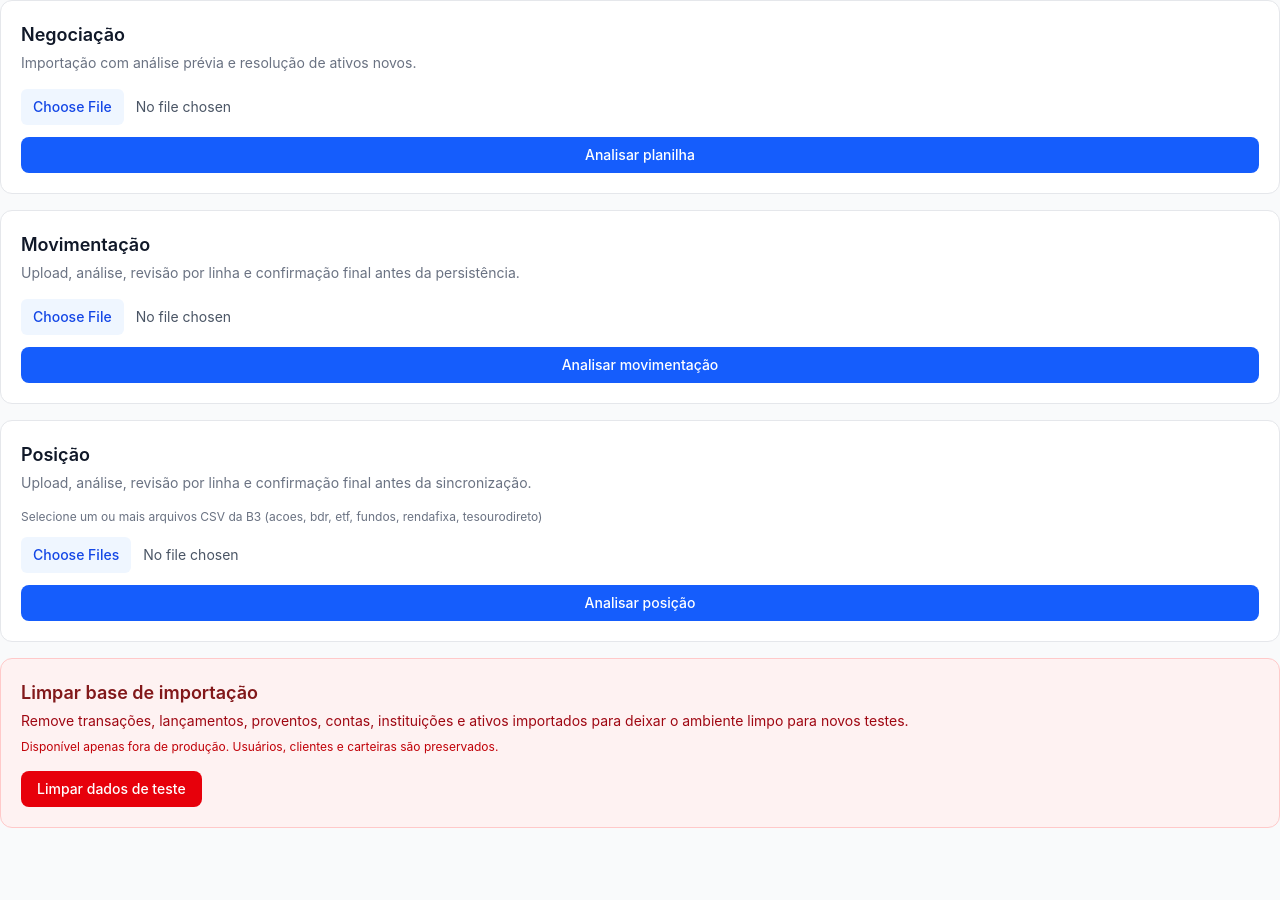
it: ImportPageClient wizard › abre confirmacao e executa limpeza da base de importacao
This screenshot has width=1280, height=900.
What coordinates should you click on to do the following:
click the button "Limpar dados de teste"
I would click on:
 (111, 789)
Its box is 21,771 -> 202,807.
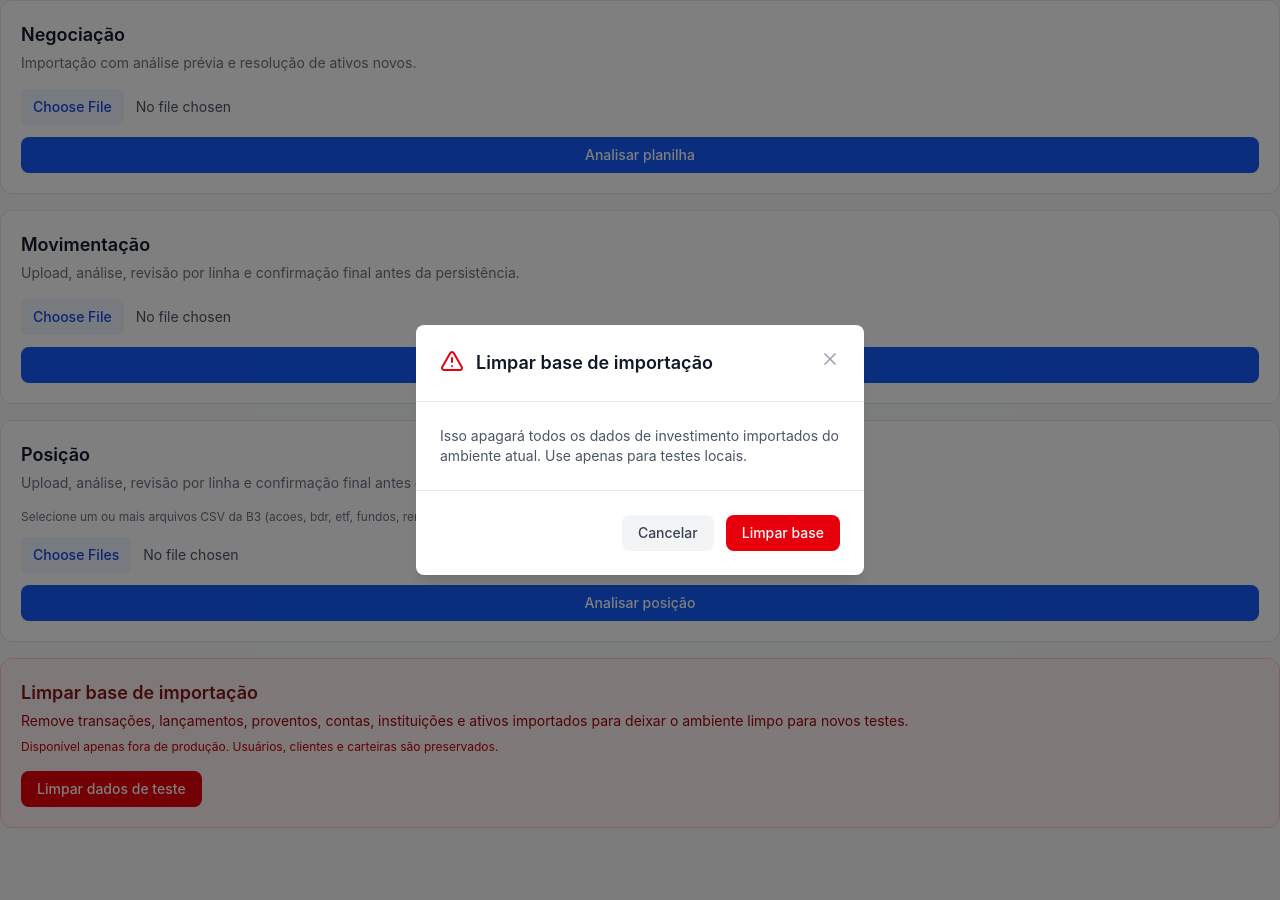
Check: the button "Limpar base" is shown
What coordinates should you click on to do the following:
click the button "Limpar base"
I would click on:
 (783, 533)
Its box is 726,515 -> 840,551.
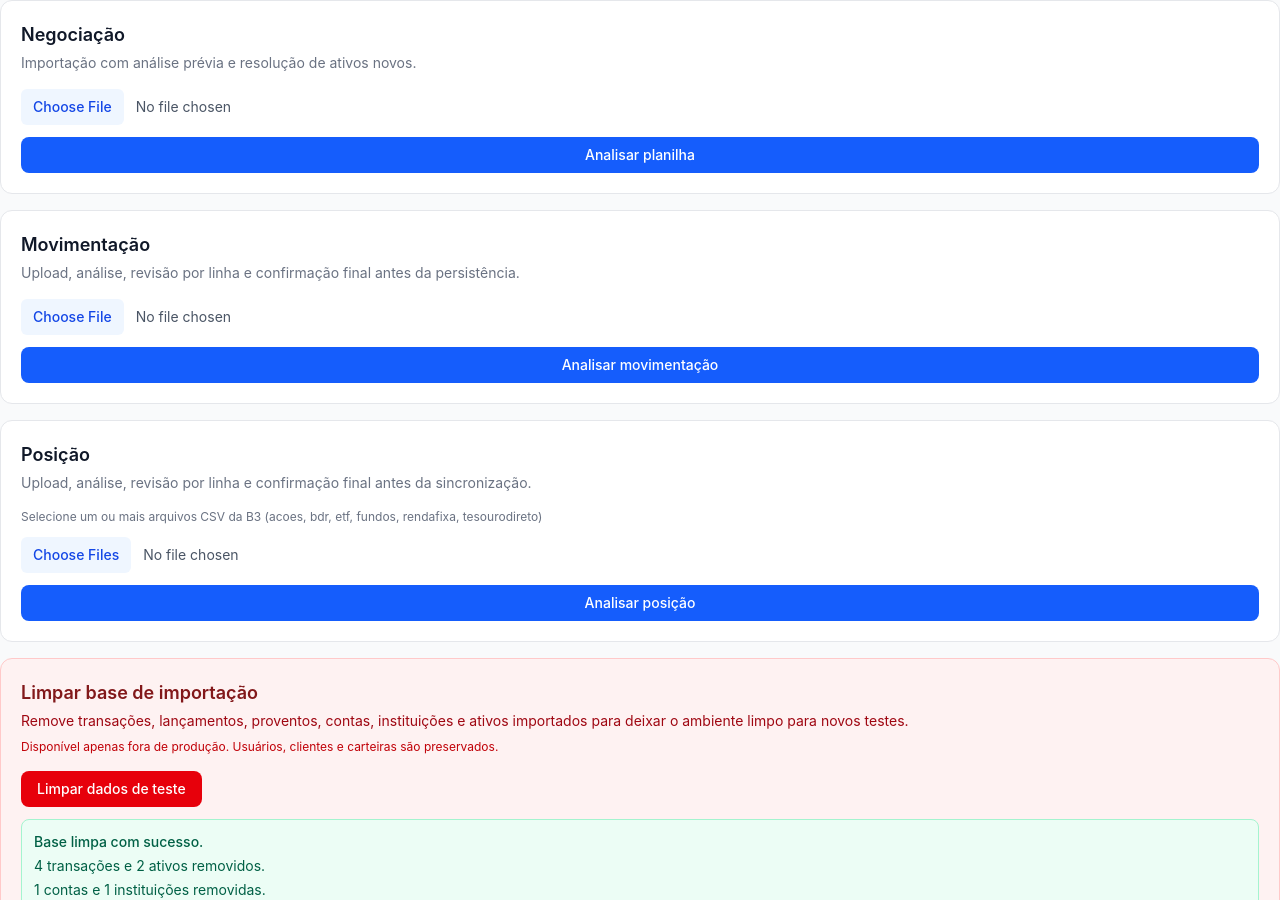
Check: the text "Base limpa com sucesso." is shown, box 34,833 -> 203,850
Check: the text "4 transações e 2 ativos removidos." is shown, box 34,857 -> 265,874
